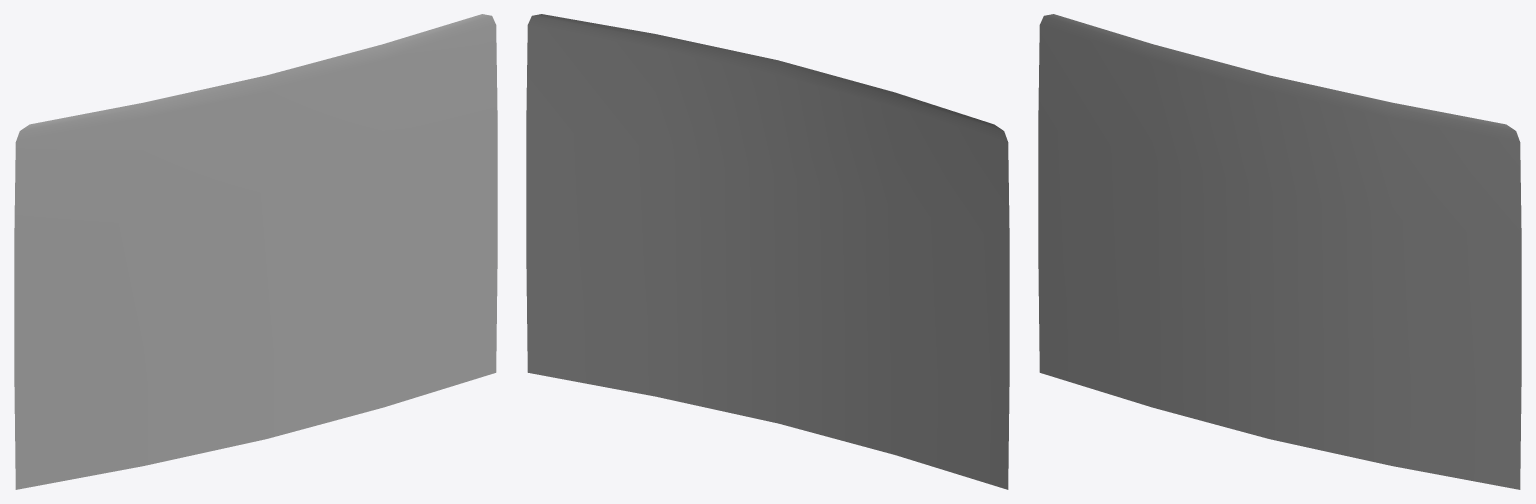
File: crt_screen.glb
3 renders of one model, left to right at view 1: azimuth 30°, elevation 25°; view 2: azimuth 150°, elevation 25°; view 3: azimuth 330°, elevation 25°, orthographic.
Visible parts, largest first — view 1: CRT_Screen; view 2: CRT_Screen; view 3: CRT_Screen.
Boxes of the visible parts, x1,y1,x2,y2 form: CRT_Screen: (14,14,497,489); CRT_Screen: (526,14,1009,489); CRT_Screen: (1038,14,1521,489).
Size of the model in its own units: 0.4258 by 0.3059 by 0.0162.
1 material, 1 textured.
